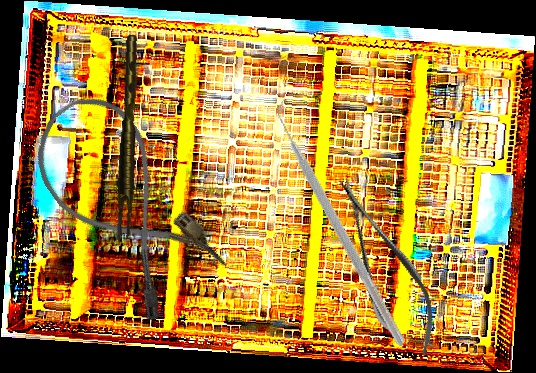Cannula: (14, 79, 233, 327)
Chopper: (205, 93, 483, 347)
Micro Scissor: (318, 164, 453, 369)
Tissue Forceps: (109, 34, 148, 242)
